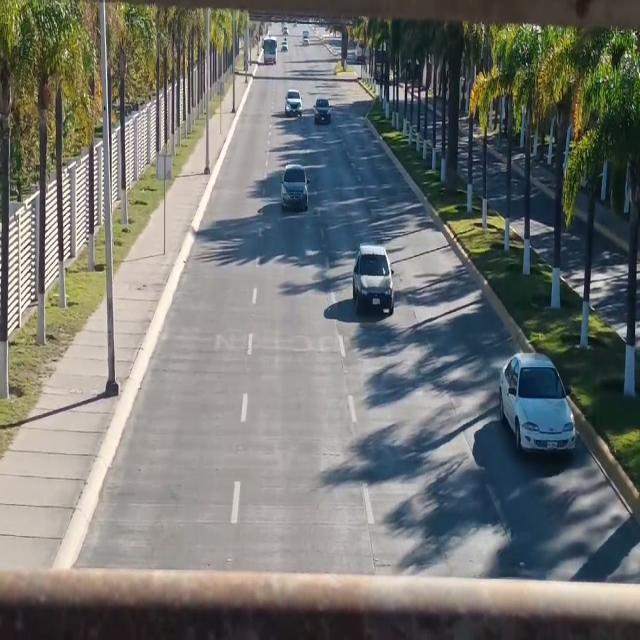Auto: (501, 352, 578, 457), (351, 245, 397, 313), (279, 166, 309, 212), (284, 89, 306, 117), (314, 100, 334, 128)
